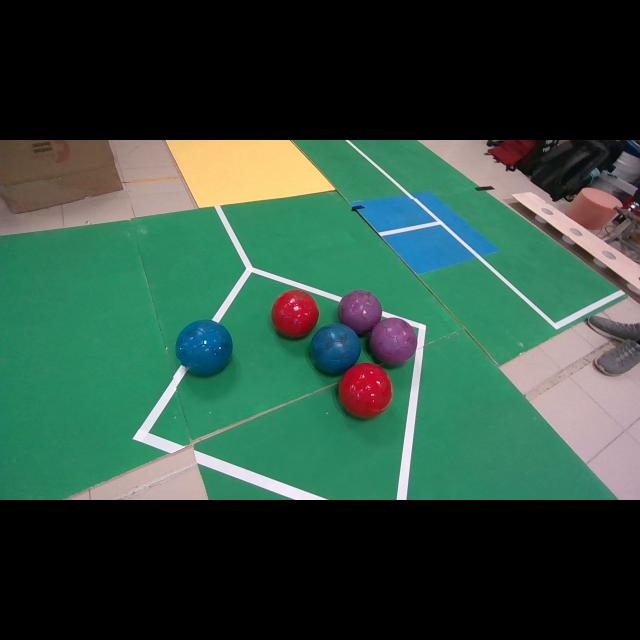B: (175, 320, 232, 375), (311, 324, 361, 374)
P: (370, 318, 418, 365), (338, 290, 382, 335)
R: (339, 362, 392, 418), (271, 289, 319, 338)
